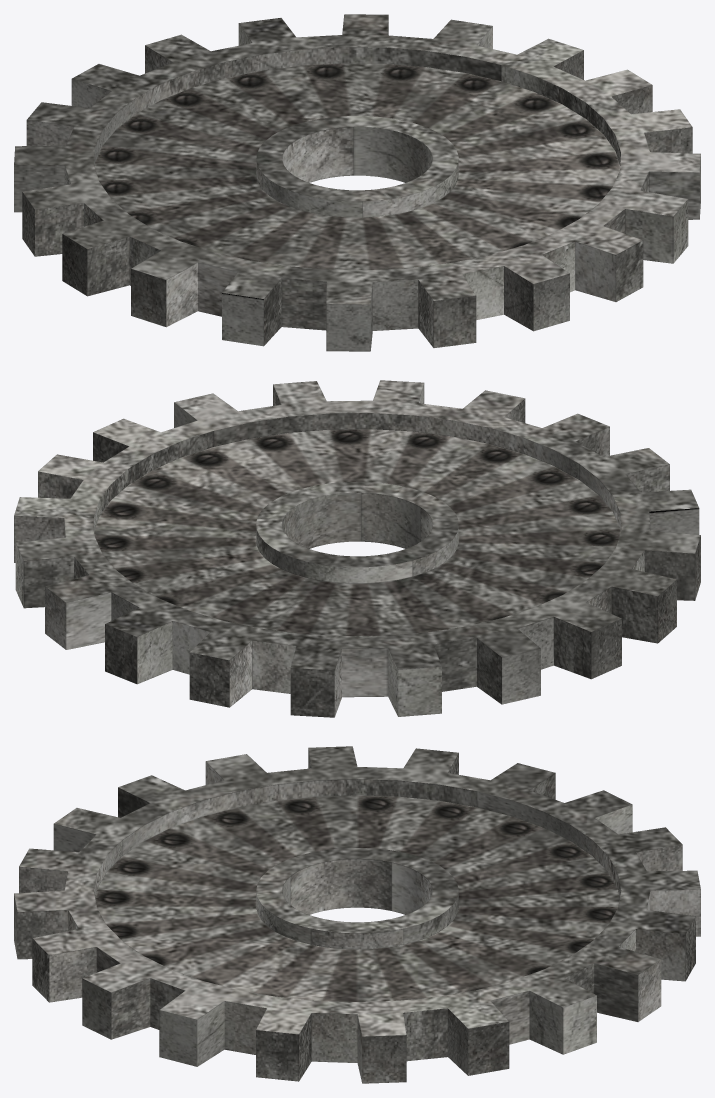
File: LongGear.fbx
The picture shows the model from 3 angles, top to bottom: view 1: azimuth 30°, elevation 25°; view 2: azimuth 150°, elevation 25°; view 3: azimuth 270°, elevation 25°; orthographic projection.
Parts seen in each view (by area): view 1: pPipe1; view 2: pPipe1; view 3: pPipe1.
Part boxes in pixels (x1=…): pPipe1: x1=14, y1=14, x2=700, y2=351; pPipe1: x1=14, y1=380, x2=700, y2=717; pPipe1: x1=14, y1=746, x2=700, y2=1083.
Size of the model in its own units: 23.35 by 1.83 by 23.35.
